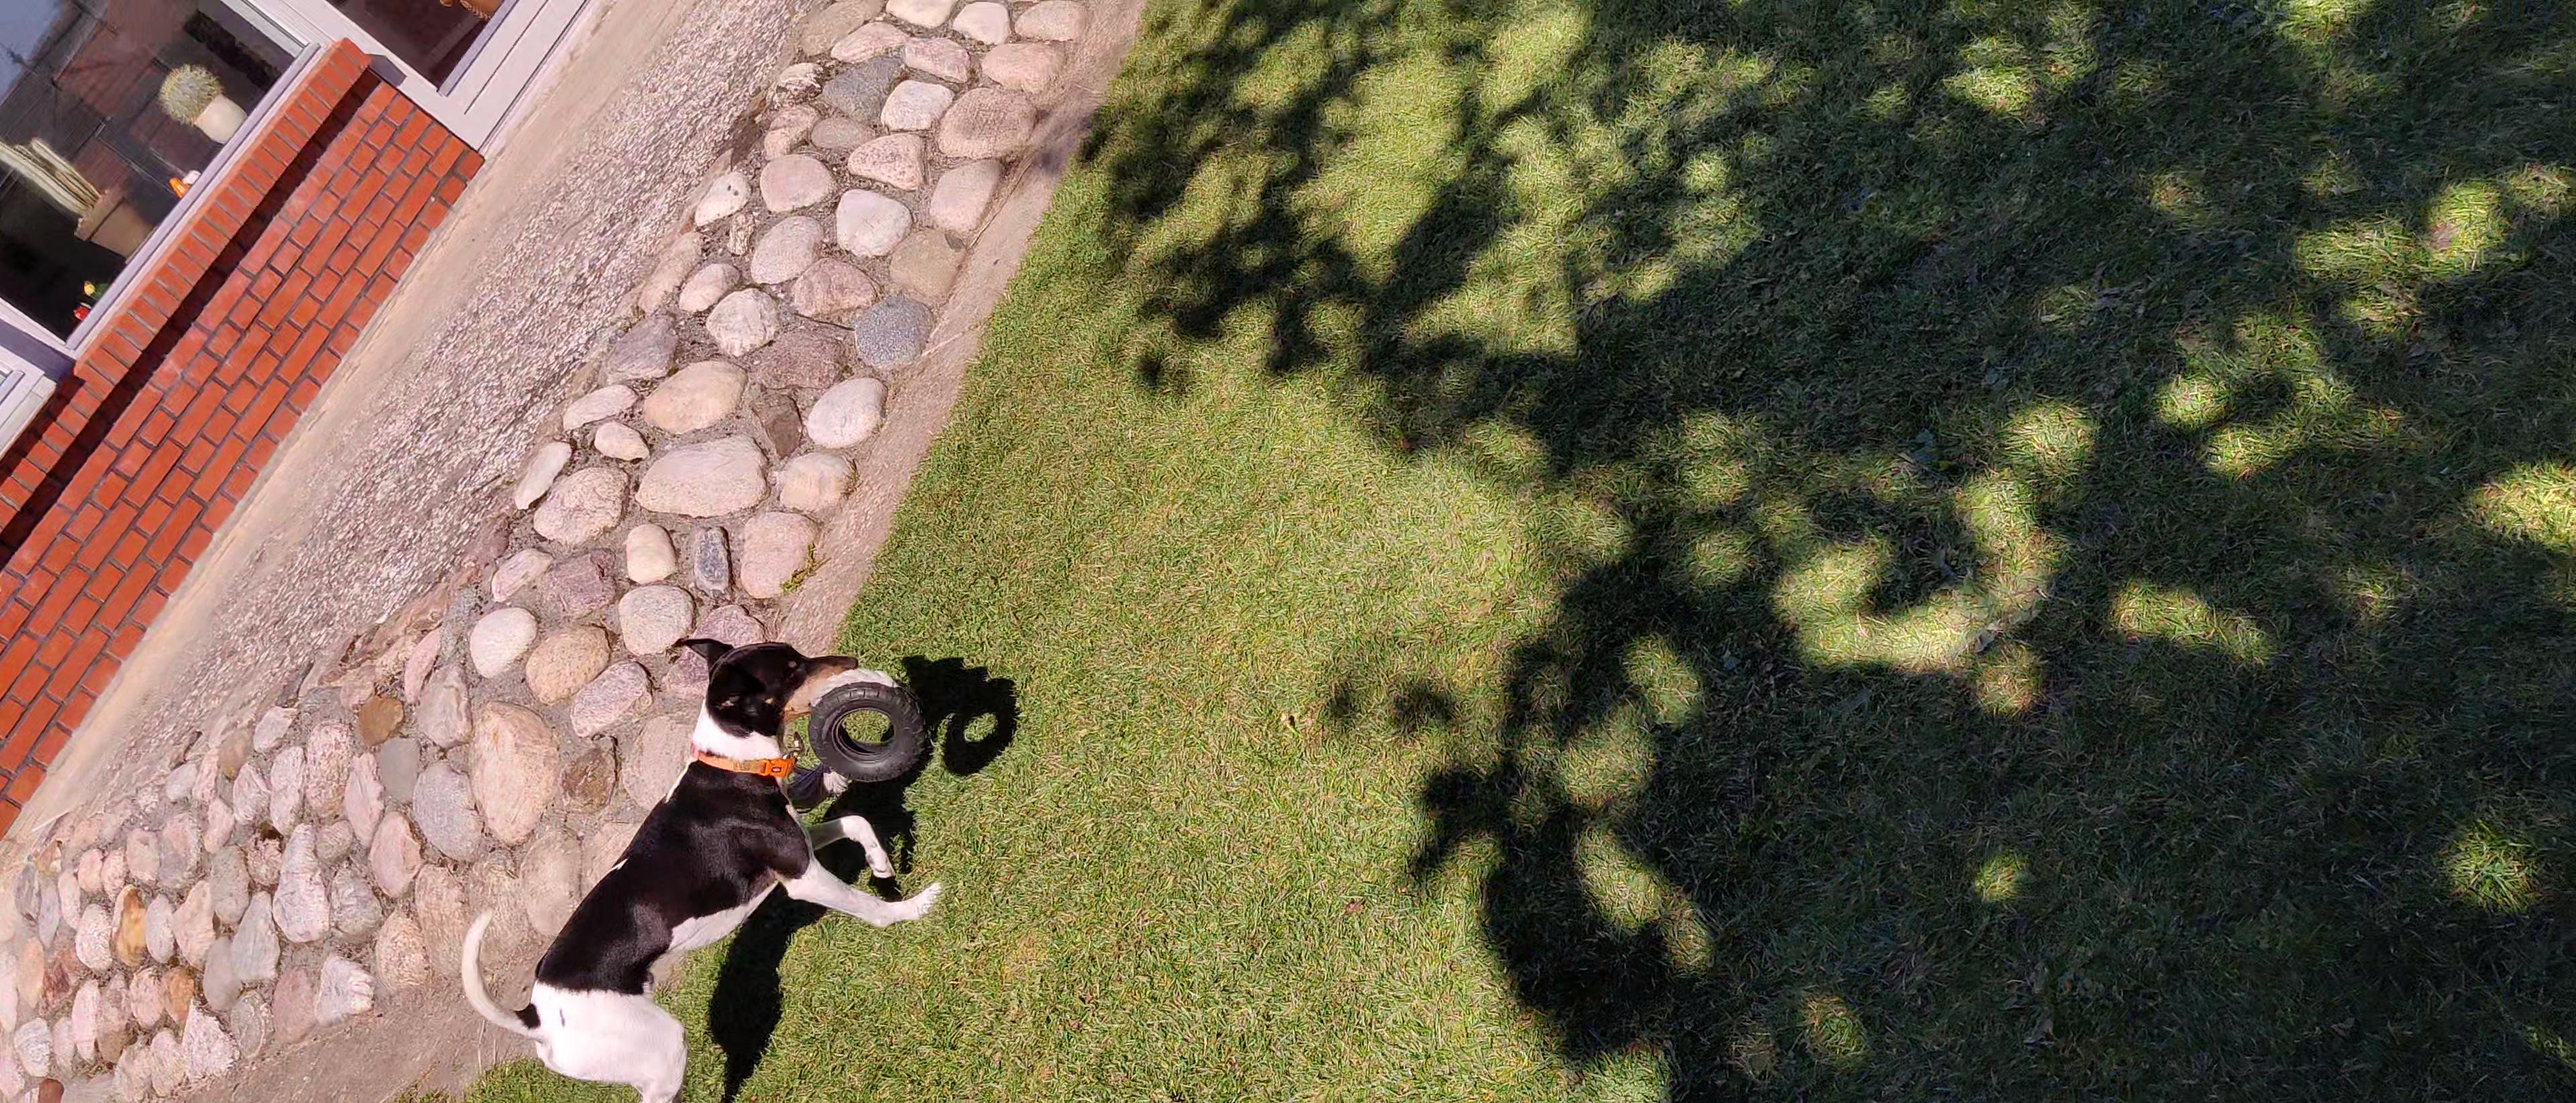Dog: (457, 633, 943, 1103)
